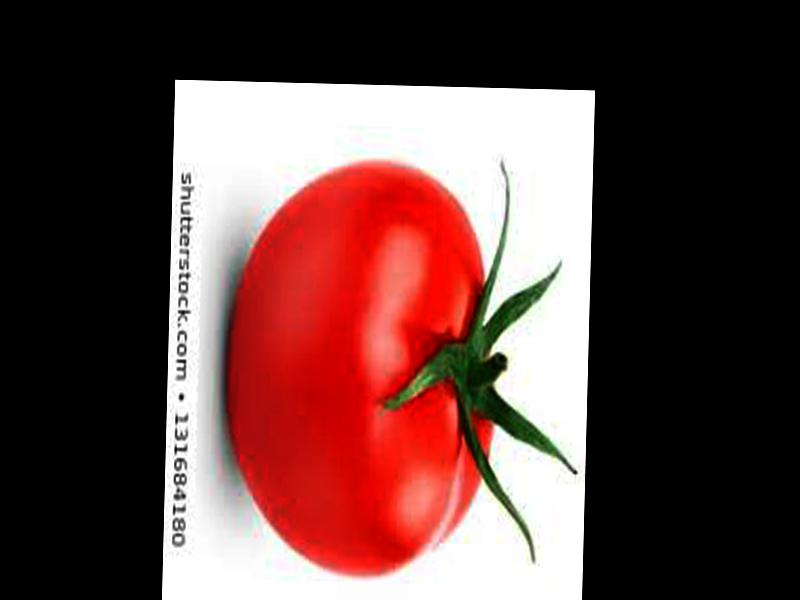Tomato: (225, 159, 497, 580)
